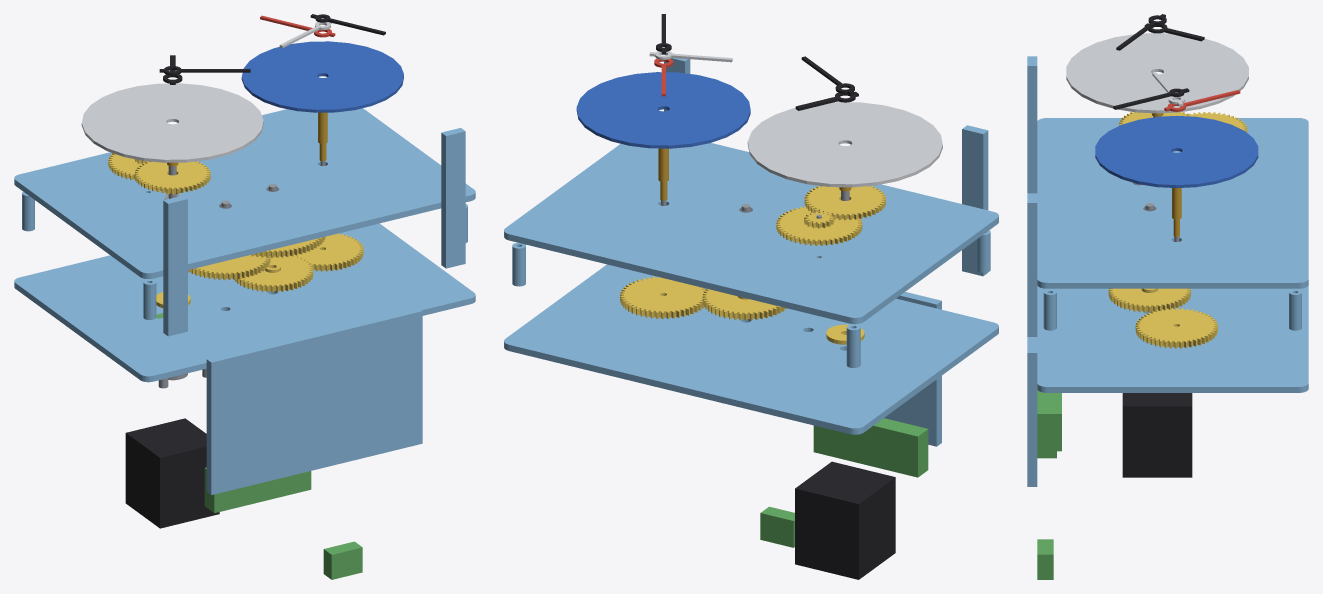
The model's file is test_rig_exploded.dae.
3 views of the same model, side by side, from view 1: azimuth 30°, elevation 25°; view 2: azimuth 150°, elevation 25°; view 3: azimuth 270°, elevation 25° (orthographic). The views are drawn at different scales.
Parts seen in each view (by area): view 1: front_plate, electronics_tray, back_plate, dial_12h, dial_24h, motor_nema17, foot_0, foot_1, esp32_s3_devkit, hour_wheel_45, shadow_drive_48_B, shadow_wheel_48_C (+4 smaller); view 2: front_plate, back_plate, dial_12h, dial_24h, motor_nema17, esp32_s3_devkit, shadow_wheel_48_C, foot_0, minute_wheel_48_15, electronics_tray, hour_wheel_45, shadow_drive_48_B (+2 smaller); view 3: front_plate, back_plate, dial_12h, dial_24h, motor_nema17, shadow_wheel_48_C, shadow_drive_48_B, electronics_tray, foot_1, foot_0, tmc2209_breakout, buck_24_5 (+6 smaller).
Boxes of the visible parts, box(x1,y1,x2,y2) form: front_plate: box(14, 108, 475, 278); electronics_tray: box(206, 307, 422, 494); back_plate: box(14, 223, 475, 382); dial_12h: box(81, 83, 263, 162); dial_24h: box(241, 41, 403, 112); motor_nema17: box(125, 418, 219, 528); foot_0: box(163, 195, 187, 336); foot_1: box(441, 128, 465, 268); esp32_s3_devkit: box(204, 467, 311, 513); hour_wheel_45: box(134, 161, 210, 193); shadow_drive_48_B: box(233, 255, 313, 292); shadow_wheel_48_C: box(289, 233, 363, 271); front_plate: box(504, 143, 998, 324); back_plate: box(504, 264, 998, 434); dial_12h: box(747, 102, 942, 187); dial_24h: box(576, 72, 750, 148); motor_nema17: box(795, 461, 895, 579); esp32_s3_devkit: box(813, 418, 928, 477); shadow_wheel_48_C: box(620, 276, 705, 319); foot_0: box(962, 125, 988, 276); minute_wheel_48_15: box(776, 206, 862, 245); electronics_tray: box(884, 292, 941, 446); hour_wheel_45: box(804, 186, 885, 220); shadow_drive_48_B: box(702, 288, 786, 320); front_plate: box(1037, 118, 1308, 288); back_plate: box(1037, 285, 1308, 392); dial_12h: box(1066, 33, 1248, 113); dial_24h: box(1095, 115, 1258, 188); motor_nema17: box(1122, 393, 1192, 477); shadow_wheel_48_C: box(1135, 308, 1217, 348); shadow_drive_48_B: box(1108, 288, 1190, 312); electronics_tray: box(1027, 337, 1037, 486); foot_1: box(1027, 193, 1037, 336); foot_0: box(1027, 56, 1037, 193); tmc2209_breakout: box(1037, 390, 1061, 451); buck_24_5: box(1037, 539, 1053, 579).
Bounding box in the file's own units: 238 × 171 × 338.
